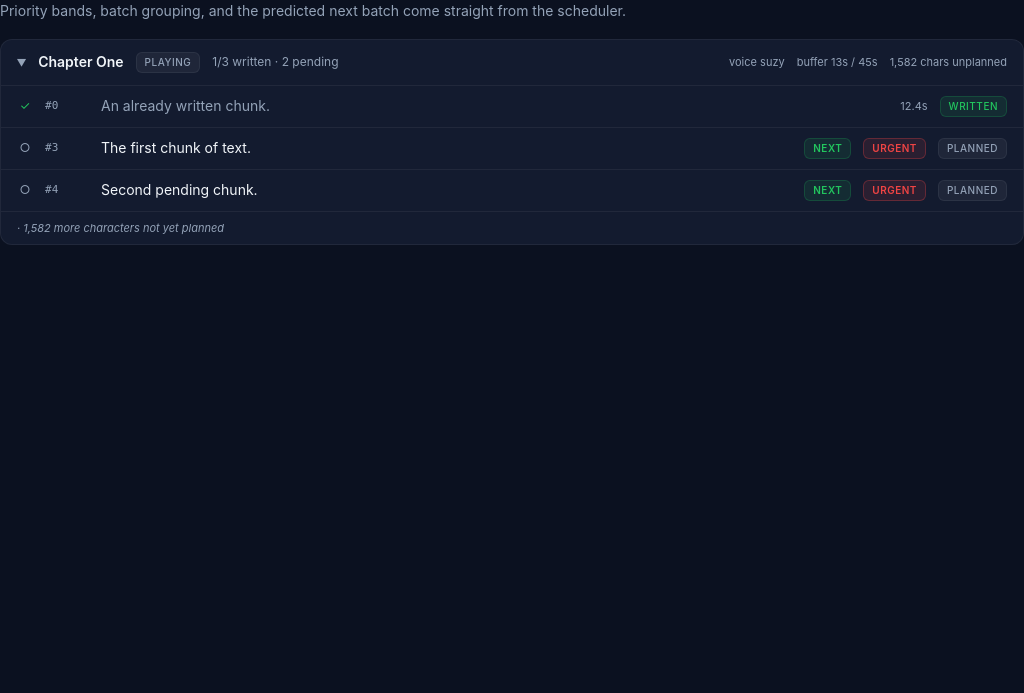
Test: clicking a pending chunk reveals its text, priority, and metadata
Click the button "○ #3 The first chunk of text. Next Urgent planned": coordinates (176, 148) [1, 128, 1023, 170]
(page scrolled)
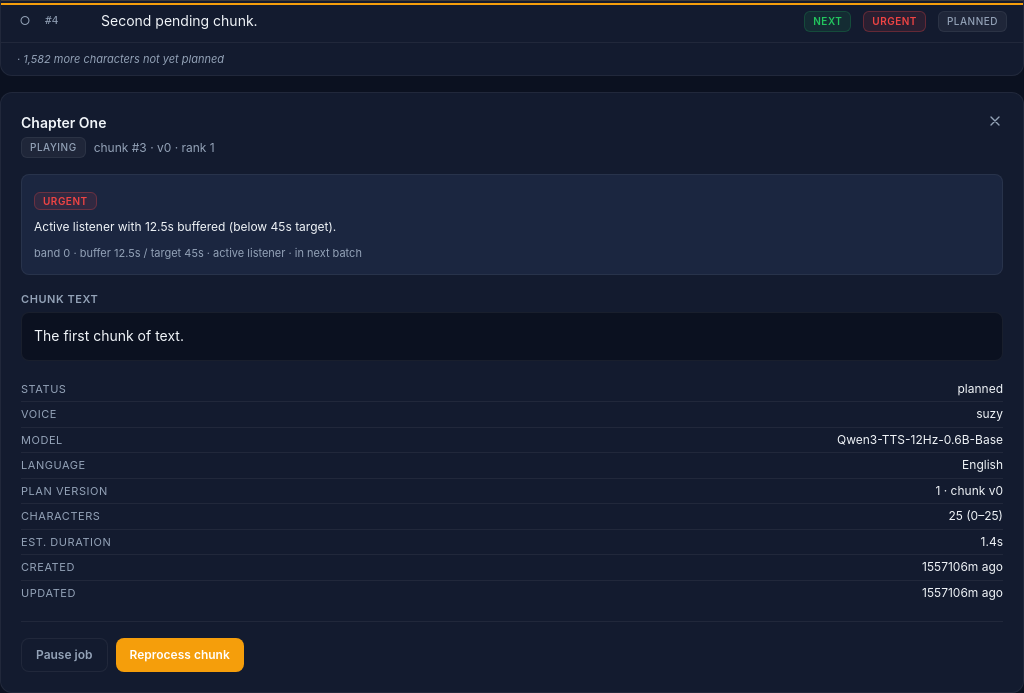
expect the text "Active listener with 12.5s buffered (below 45s target)." is shown: met, box [34, 219, 336, 234]
expect the text "buffer 12.5s / target 45s" is shown: met, box [34, 246, 362, 260]
expect the text "Qwen3-TTS-12Hz-0.6B-Base" is shown: met, box [837, 432, 1003, 448]
